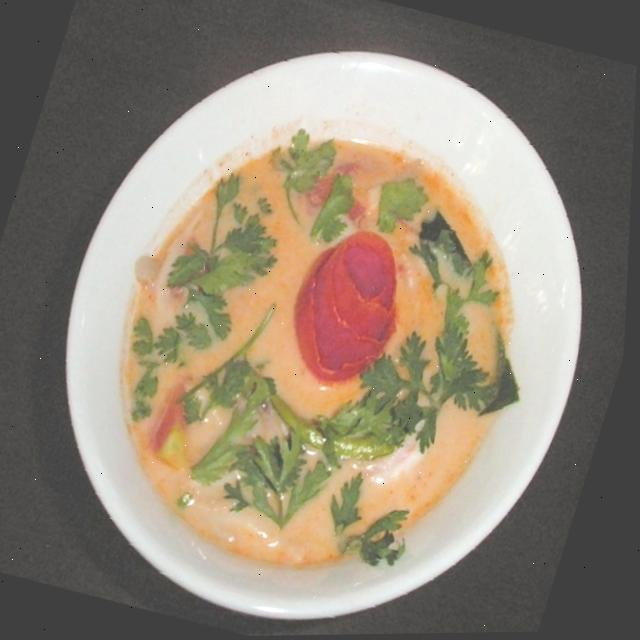汤锅炖物: (14, 8, 619, 640)
